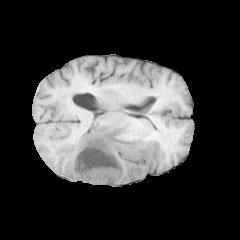glioma: (53, 123, 157, 184)
